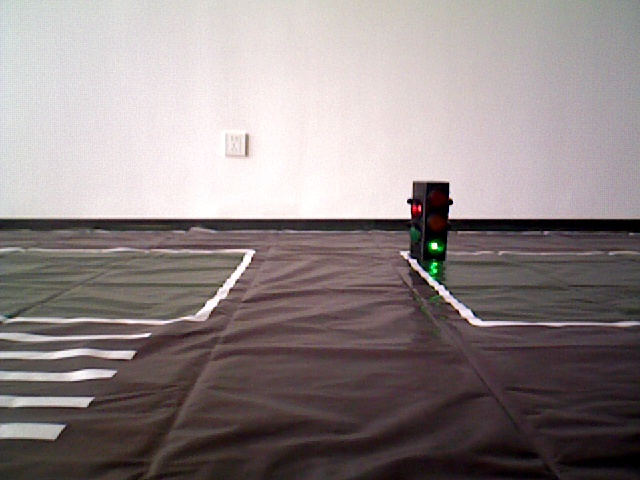green: (412, 182, 446, 255)
